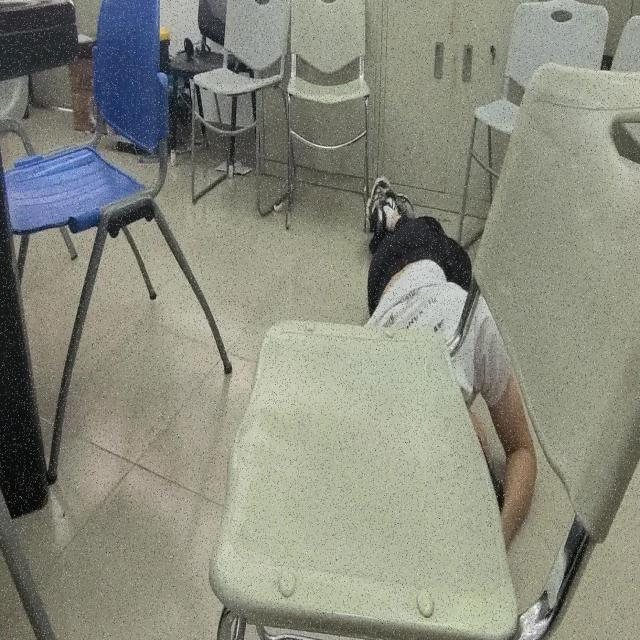fall: (360, 176, 540, 557)
